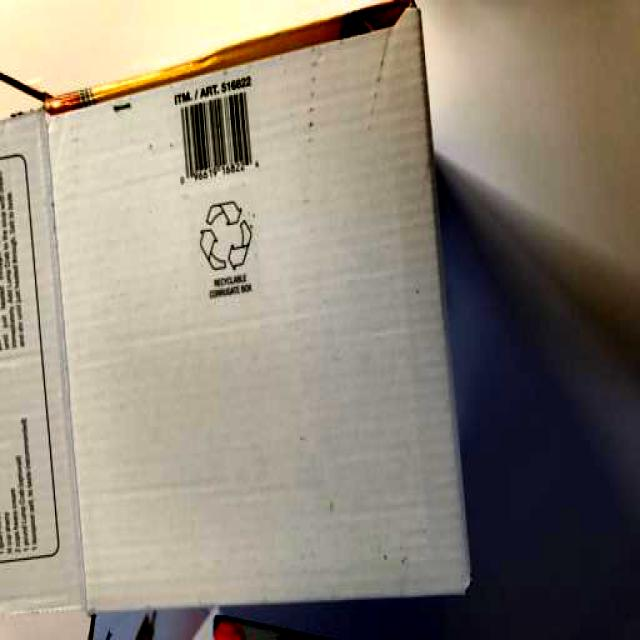Paper: (0, 0, 480, 640)
